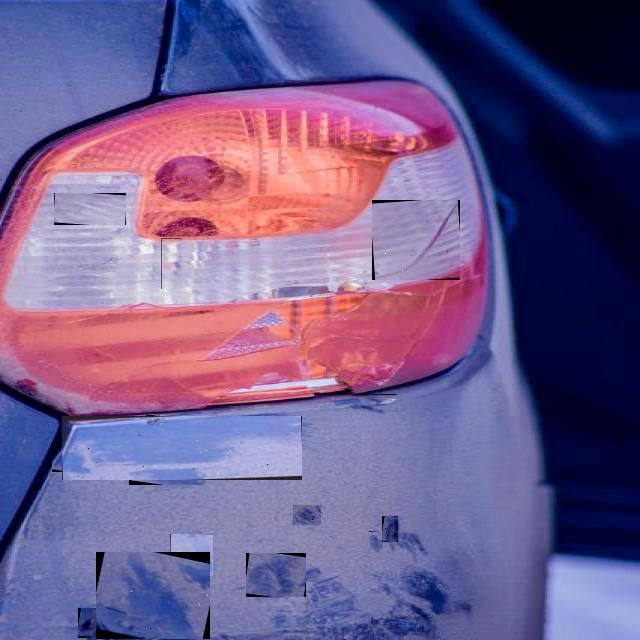Dent: (62, 416, 302, 480), (96, 552, 210, 639), (372, 200, 460, 280), (246, 553, 306, 597), (54, 193, 126, 225), (170, 534, 213, 576), (129, 466, 206, 485), (52, 441, 92, 472), (335, 394, 397, 412), (161, 238, 182, 289), (78, 608, 107, 638), (293, 505, 321, 525), (382, 516, 398, 542), (369, 531, 382, 550), (146, 415, 160, 424)
